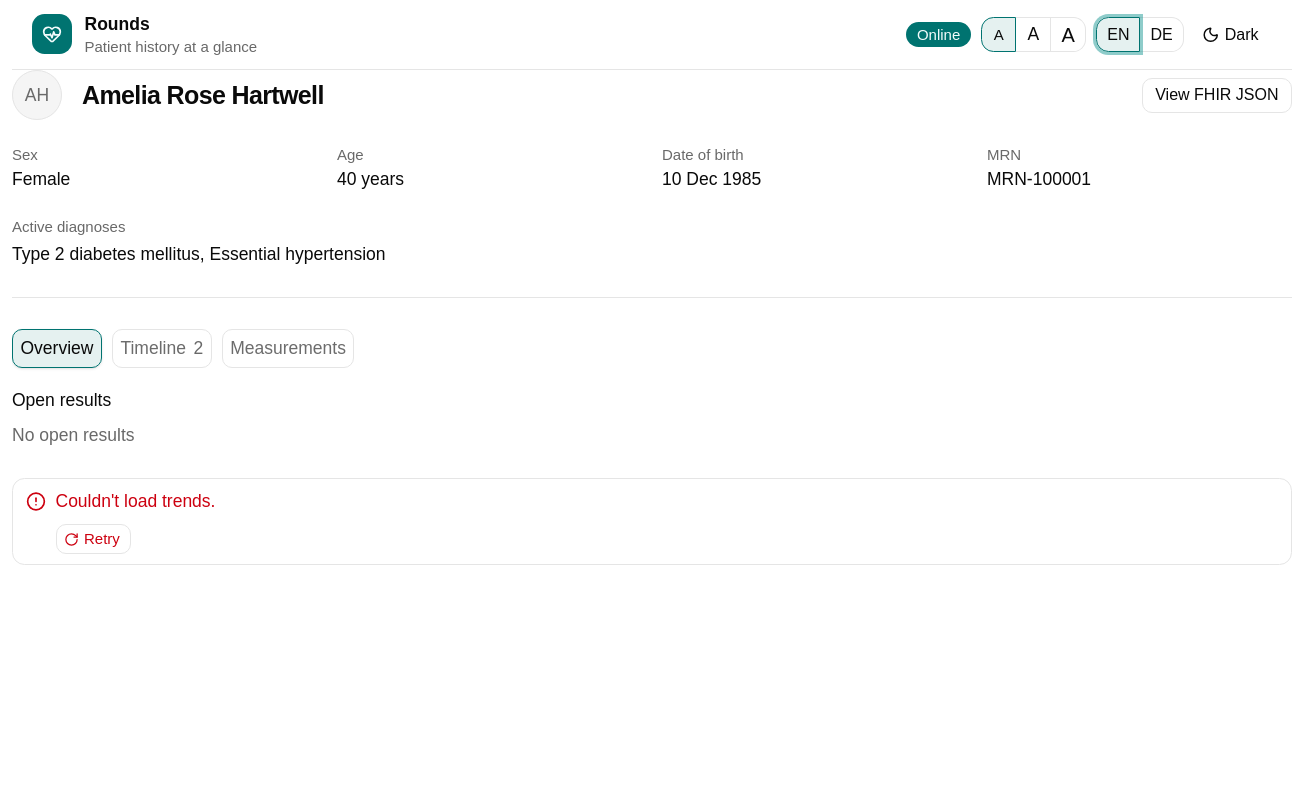
Test: language switch › switches the UI to German from the header, by keyboard
The image size is (1304, 800).
Expected: the text "10 Dec 1985" is shown, x1=662 y1=170 x2=761 y2=190
Expected: the text "Online" is shown, x1=906 y1=22 x2=971 y2=47
Press Arrowright
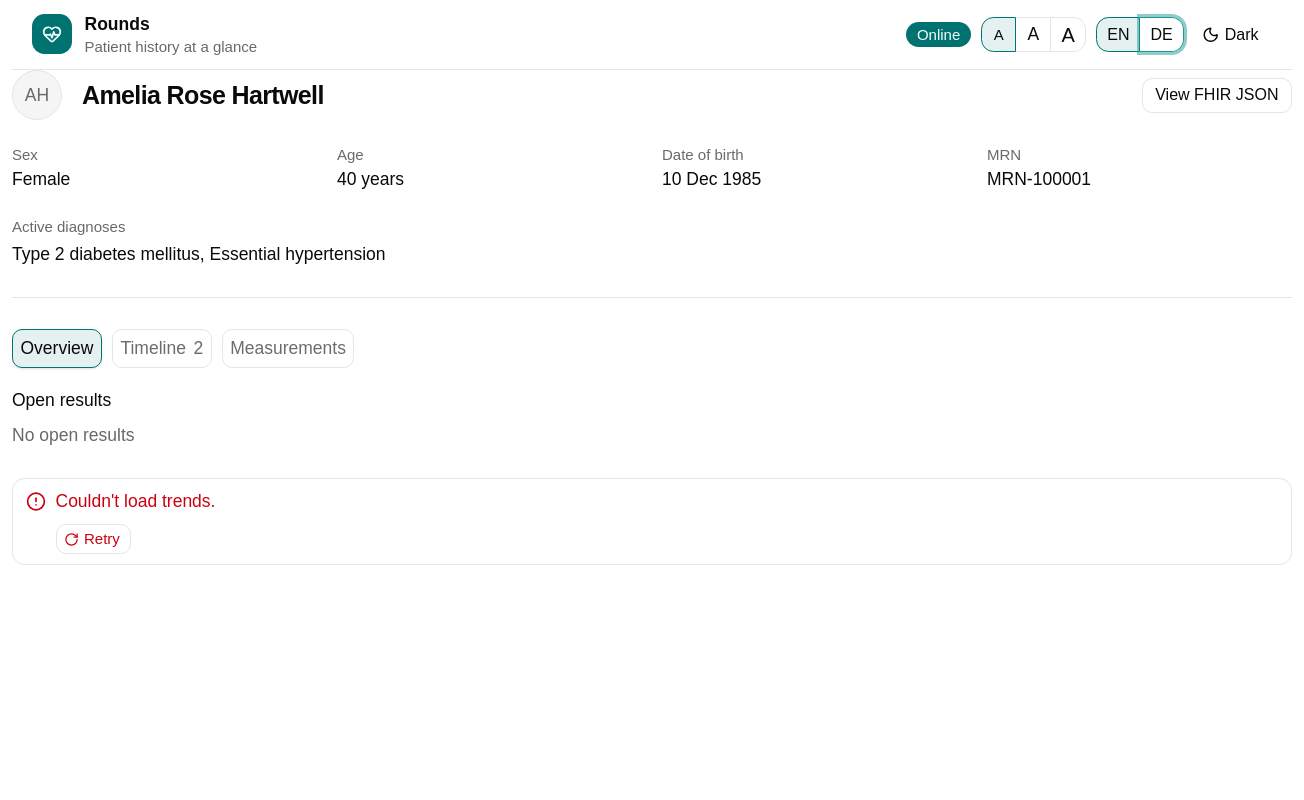
Type keys " "
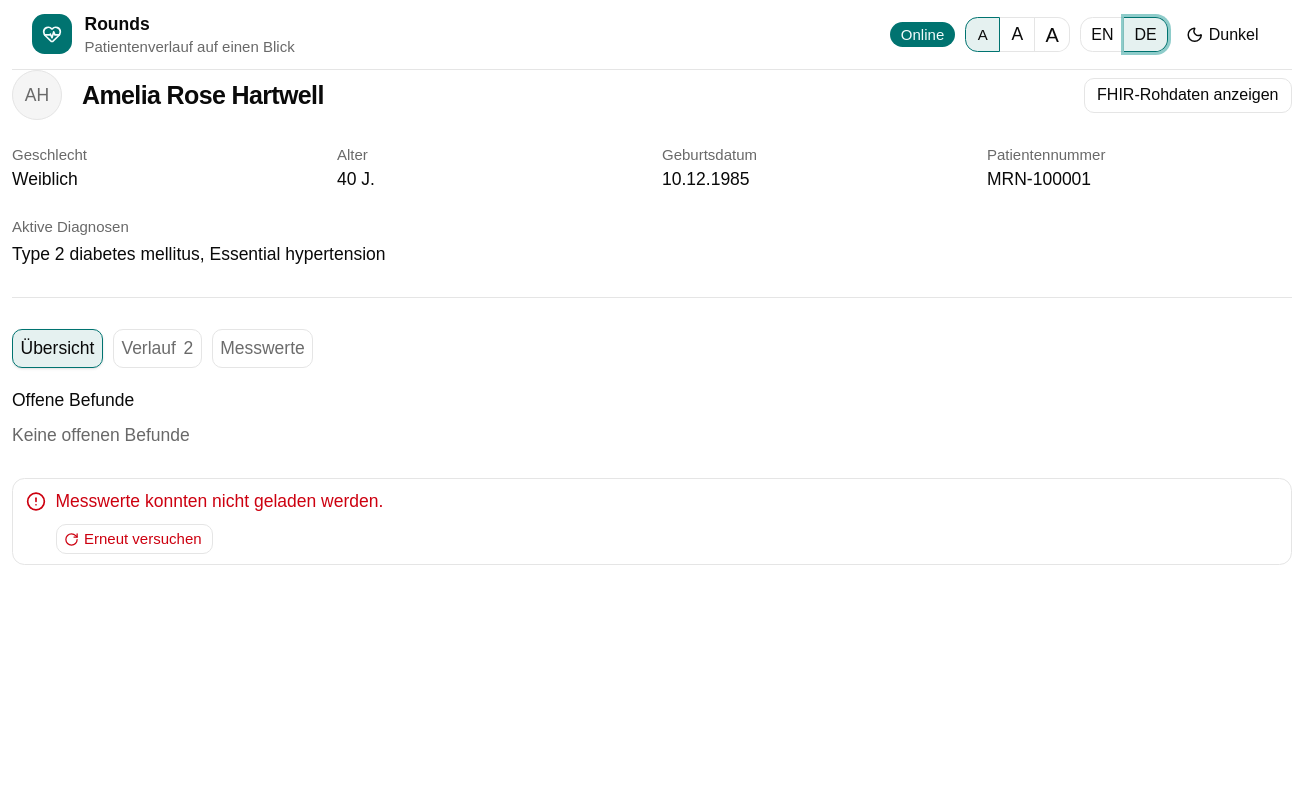
Expected: the text "10.12.1985" is shown, x1=662 y1=170 x2=750 y2=190
Expected: the text "Geburtsdatum" is shown, x1=662 y1=146 x2=757 y2=163
Expected: the text "Patientennummer" is shown, x1=987 y1=146 x2=1105 y2=163
# The timeline lives in its own tab ("Verlauf").
Click the tab "Verlauf 2": [157, 348] box x1=113 y1=329 x2=202 y2=368
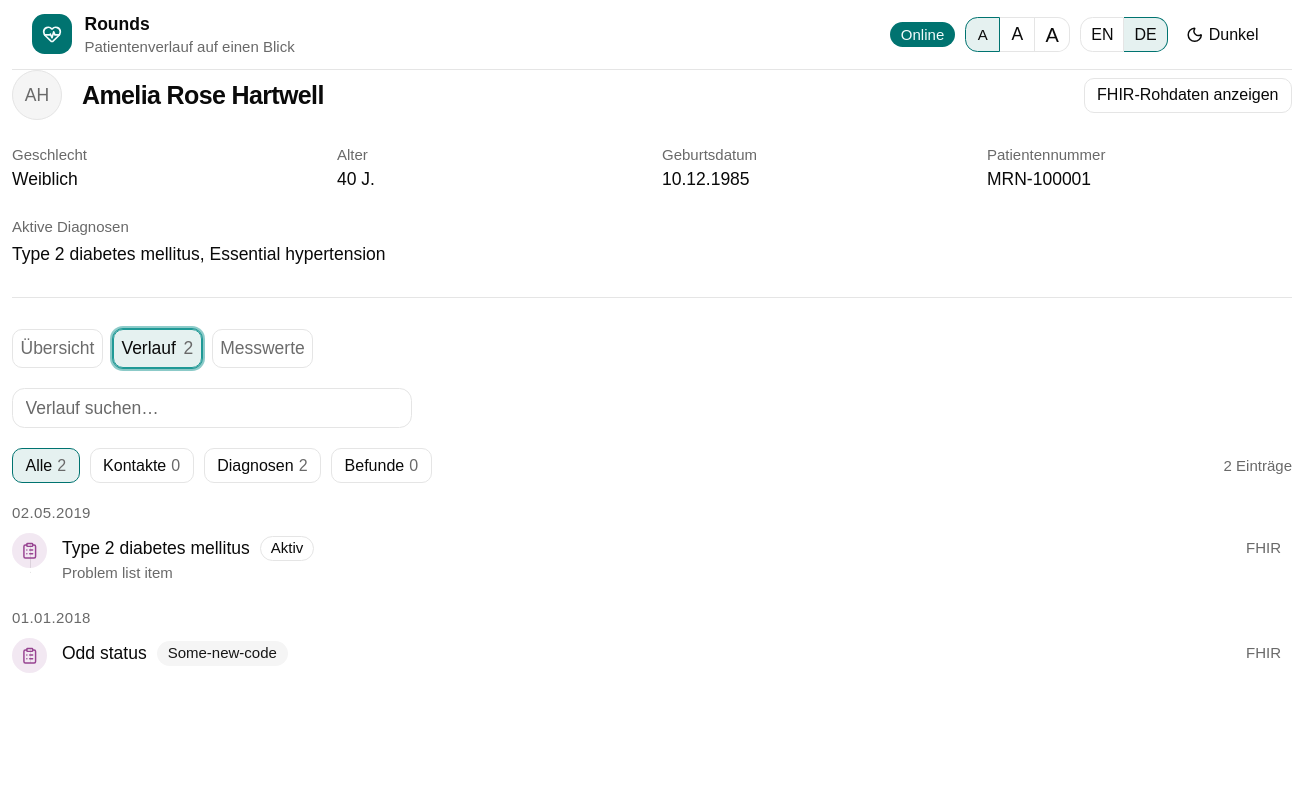
Expected: the button "Alle 2" is shown, x1=12 y1=448 x2=80 y2=484
Expected: the button "Diagnosen 2" is shown, x1=204 y1=448 x2=321 y2=484
Expected: the button "Kontakte 0" is shown, x1=90 y1=448 x2=194 y2=484
